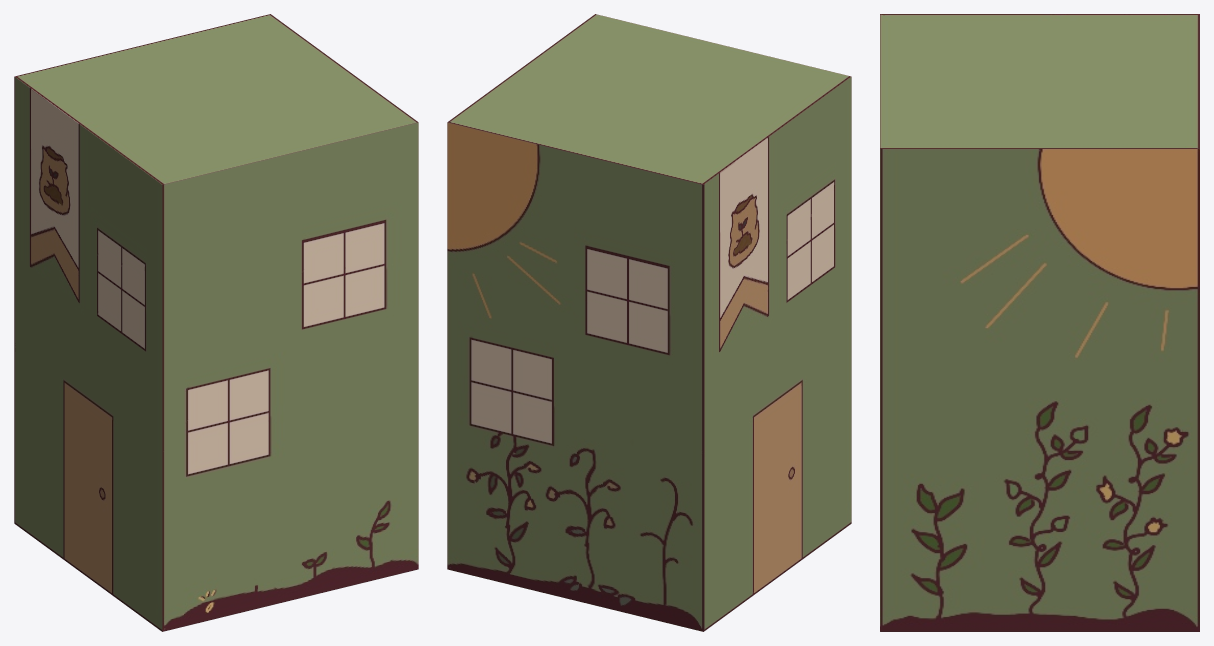
File: dream_building9.fbx
3 renders of one model, left to right at view 1: azimuth 30°, elevation 25°; view 2: azimuth 150°, elevation 25°; view 3: azimuth 270°, elevation 25°, orthographic. The views are drawn at different scales.
Visible parts, largest first — view 1: Box001; view 2: Box001; view 3: Box001.
Part boxes in pixels (x1,y1,x2,y2): Box001: (14,14,418,631); Box001: (447,14,851,631); Box001: (880,14,1199,631).
Size of the model in its own units: 360 by 600 by 360.
1 material, 1 textured.
